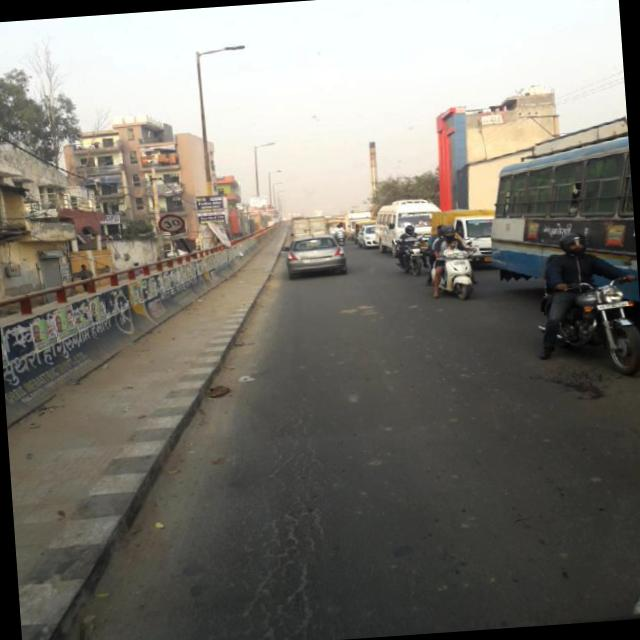crack: (173, 386, 359, 640)
